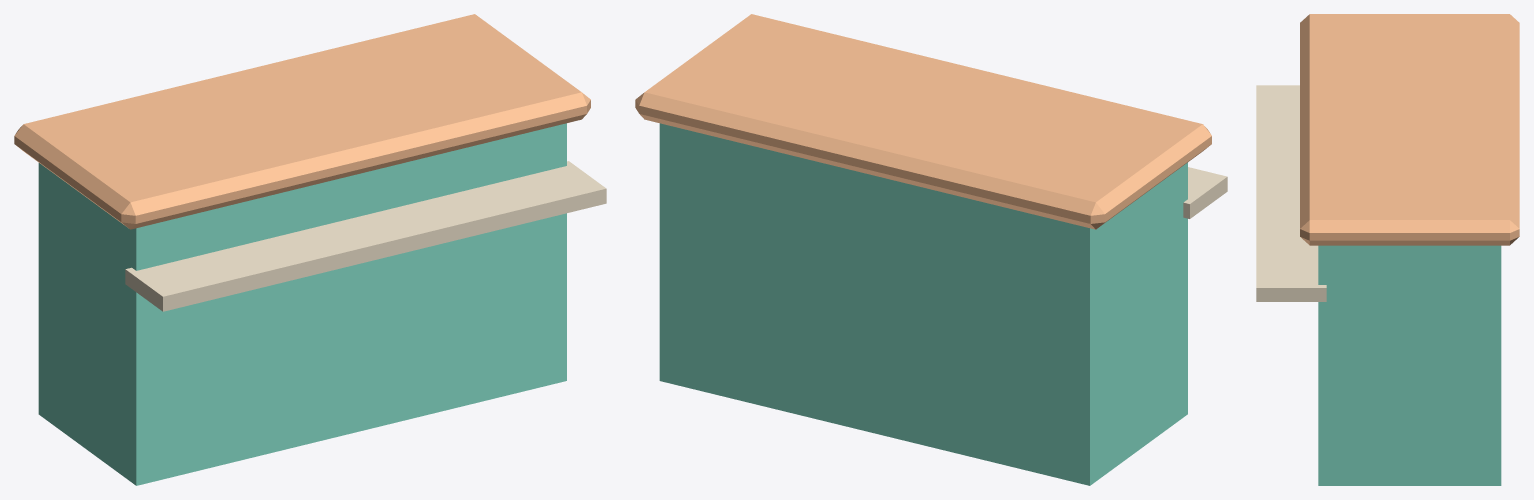
3 renders of one model, left to right at view 1: azimuth 30°, elevation 25°; view 2: azimuth 150°, elevation 25°; view 3: azimuth 270°, elevation 25°, orthographic. The views are drawn at different scales.
Parts seen in each view (by area): view 1: Counter body, Countertop, Visitor shelf; view 2: Counter body, Countertop, Visitor shelf; view 3: Countertop, Counter body, Visitor shelf.
Boxes of the visible parts, box(x1,y1,x2,y2) form: Counter body: box(38, 123, 566, 485); Countertop: box(14, 14, 590, 229); Visitor shelf: box(125, 161, 606, 311); Counter body: box(659, 123, 1187, 485); Countertop: box(635, 14, 1211, 229); Visitor shelf: box(1183, 167, 1227, 218); Countertop: box(1300, 14, 1519, 245); Counter body: box(1318, 245, 1501, 485); Visitor shelf: box(1256, 85, 1326, 301).
Size of the model in its own units: 180 by 106 by 93.5.
